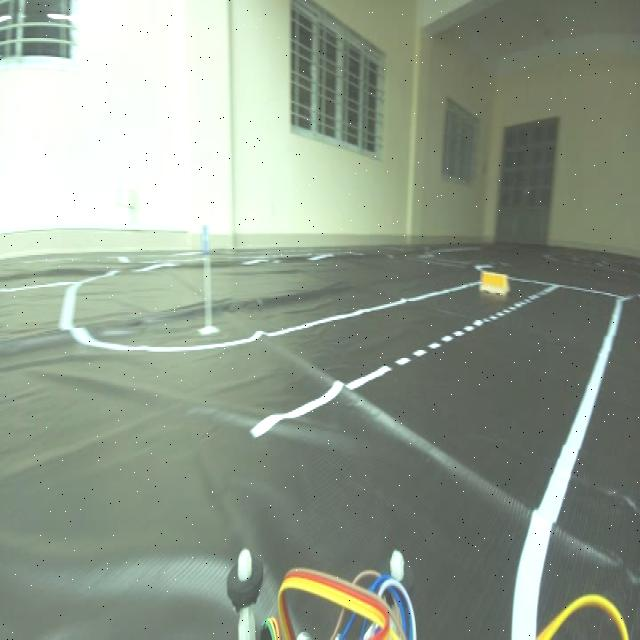onewayroad: (196, 215, 212, 263)
